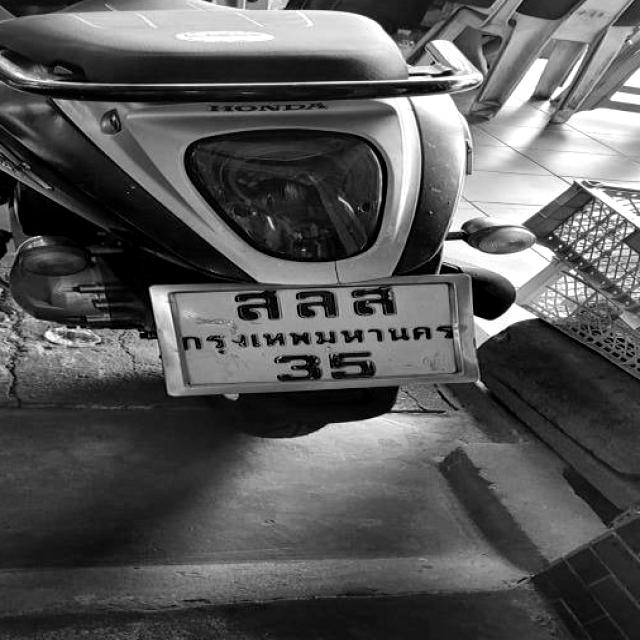letters: (230, 294, 289, 326), (272, 349, 320, 383), (331, 354, 382, 383), (294, 290, 342, 318), (359, 282, 394, 314)
license-plate: (158, 278, 466, 393)
province: (182, 325, 470, 346)
